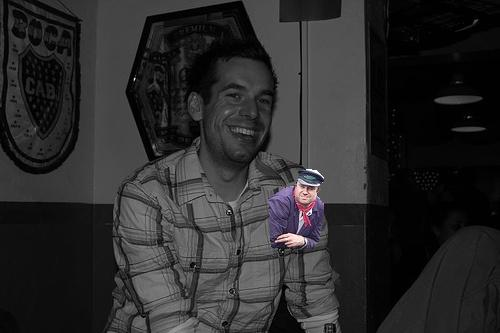tampered: (269, 170, 324, 249)
